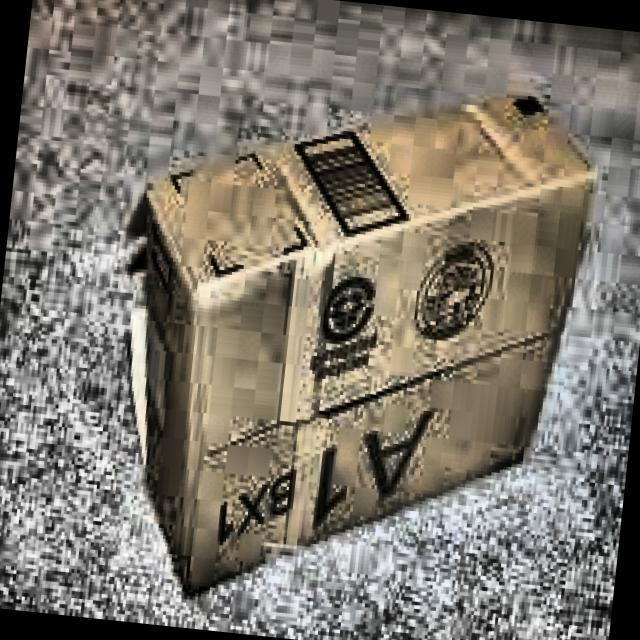cardboard: (98, 50, 604, 630)
